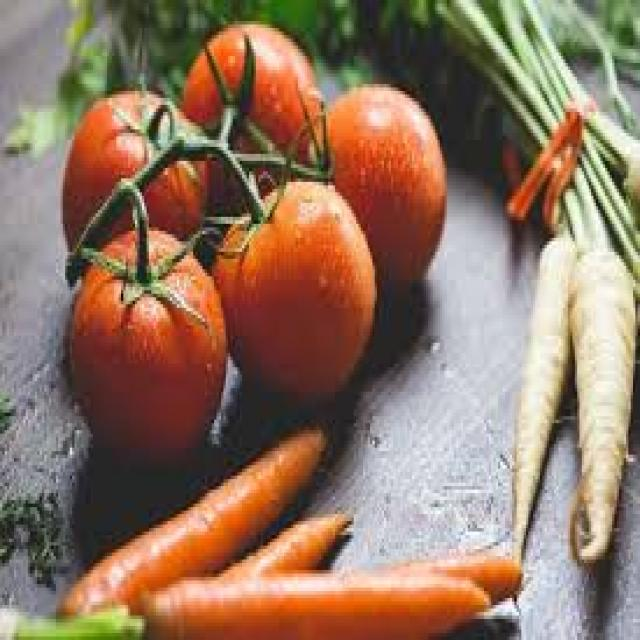organic waste: (346, 0, 637, 248), (56, 419, 326, 636), (68, 224, 224, 462), (212, 175, 372, 395), (11, 570, 488, 637), (305, 77, 444, 290), (60, 87, 210, 259), (107, 0, 347, 105), (182, 18, 316, 206), (505, 231, 575, 587), (566, 245, 636, 570), (2, 38, 110, 154), (354, 549, 521, 609), (216, 511, 352, 570), (67, 0, 98, 42)
